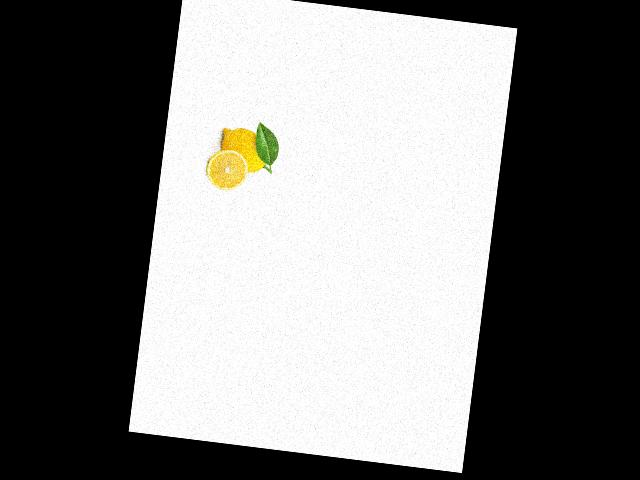lemon: (215, 123, 276, 178)
